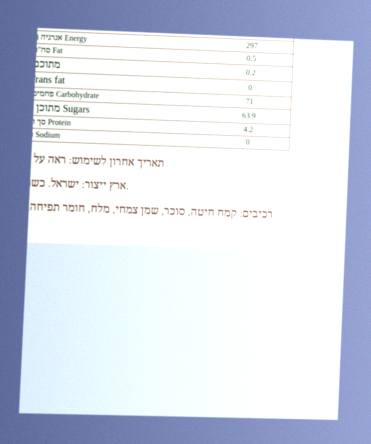carbs: (244, 96, 255, 108)
energy: (245, 40, 259, 52)
fat: (245, 53, 258, 65)
protein: (242, 124, 254, 136)
